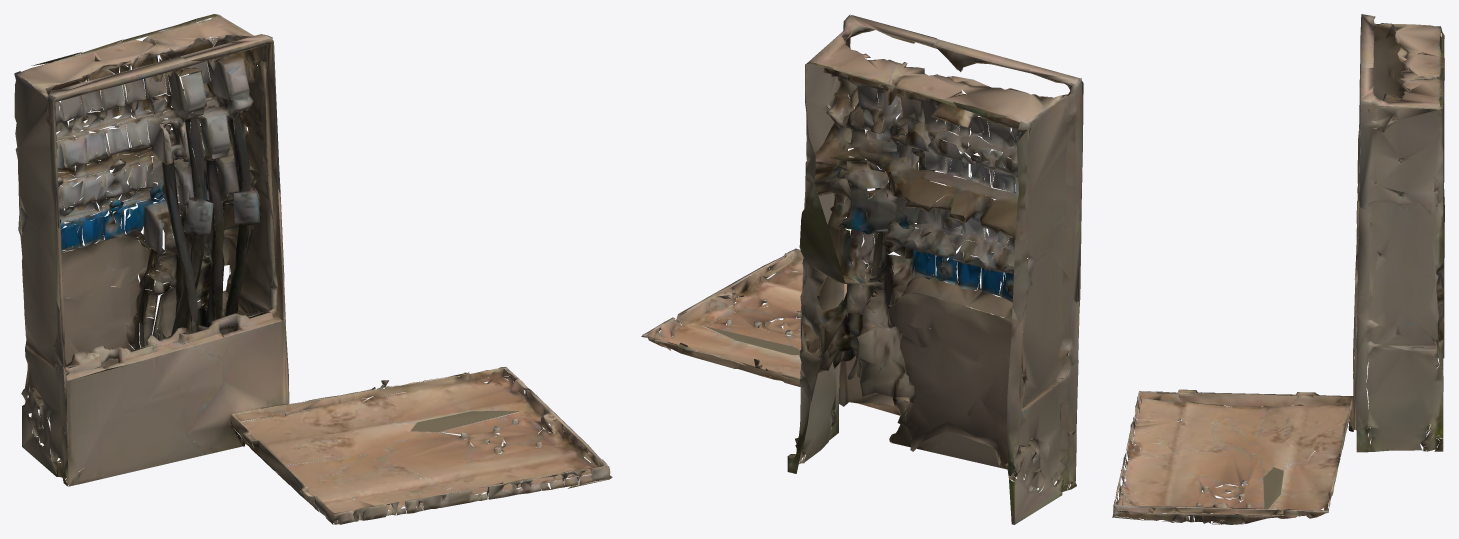
Rendered from e_cuadro_escaneado.glb.
3 views of the same model, side by side, from view 1: azimuth 30°, elevation 25°; view 2: azimuth 150°, elevation 25°; view 3: azimuth 270°, elevation 25° (orthographic). The views are drawn at different scales.
Visible parts, largest first — view 1: Object_2; view 2: Object_2; view 3: Object_2.
Boxes of the visible parts, bbox=[...] form: Object_2: bbox=[14, 14, 612, 524]; Object_2: bbox=[641, 14, 1083, 524]; Object_2: bbox=[1112, 14, 1444, 524].
Size of the model in its own units: 1.03 by 0.9021 by 0.7854.
1 material, 1 textured.
